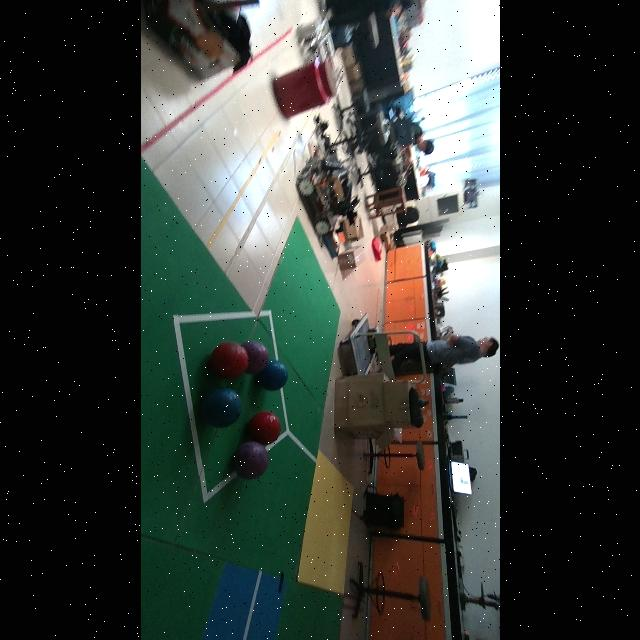B: (201, 388, 241, 428), (256, 359, 287, 391)
P: (232, 441, 269, 480), (241, 341, 269, 375)
R: (209, 341, 248, 379), (247, 411, 280, 445)
